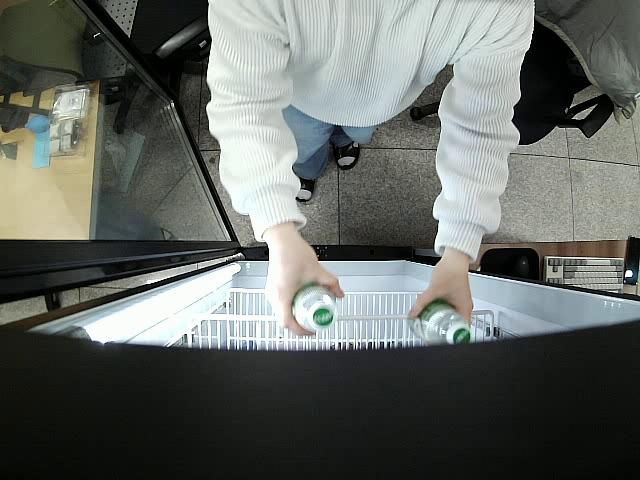00_hand: (264, 234, 344, 336), (409, 256, 474, 327)
18_trevi: (408, 299, 471, 346), (291, 284, 339, 333)
